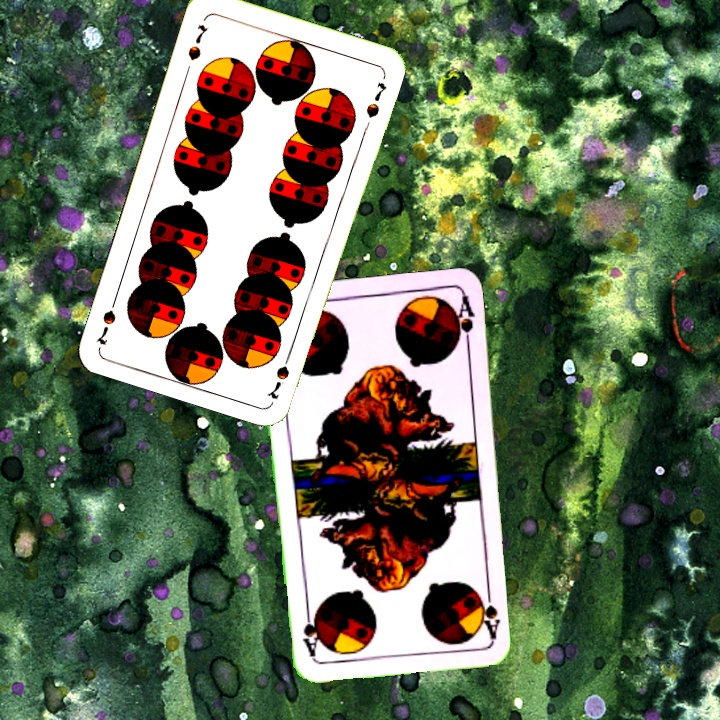S7: (265, 345, 295, 402), (184, 20, 211, 63)
SA: (476, 581, 503, 640)
